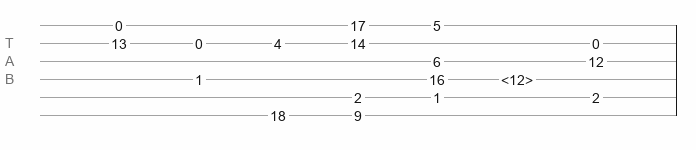0: (115, 18, 123, 28), (195, 36, 203, 46), (592, 36, 600, 46)
1: (195, 72, 203, 82), (433, 90, 441, 100)
12: (588, 54, 604, 64)
13: (111, 36, 127, 46)
14: (350, 36, 366, 46)
16: (429, 72, 445, 82)
17: (350, 18, 366, 28)
18: (270, 108, 286, 118)
2: (354, 90, 362, 100), (592, 90, 600, 100)
4: (274, 36, 282, 46)
5: (433, 18, 441, 28)
6: (433, 54, 441, 64)
9: (354, 108, 362, 118)
harmonic: (501, 72, 533, 82)
